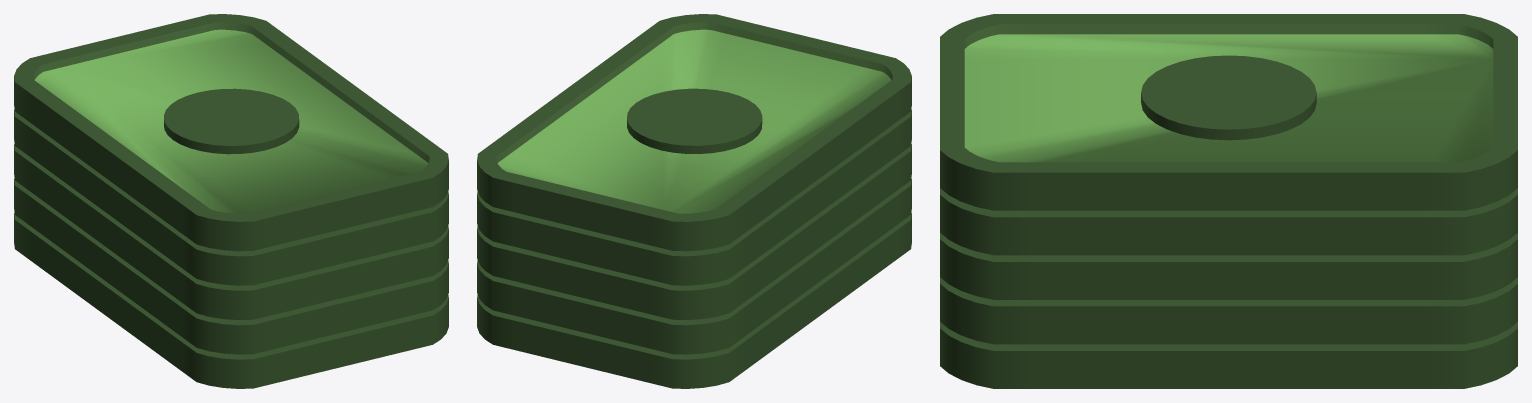
Rendered from moneymoney.fbx.
3 views of the same model, side by side, from view 1: azimuth 30°, elevation 25°; view 2: azimuth 150°, elevation 25°; view 3: azimuth 270°, elevation 25° (orthographic). The views are drawn at different scales.
Parts seen in each view (by area): view 1: Cube; view 2: Cube; view 3: Cube.
Boxes of the visible parts, <box> form: Cube: <box>14,14,448,388</box>; Cube: <box>477,14,911,388</box>; Cube: <box>940,14,1517,388</box>.
Bounding box in the file's own units: 13.74 × 8.75 × 21.12.
